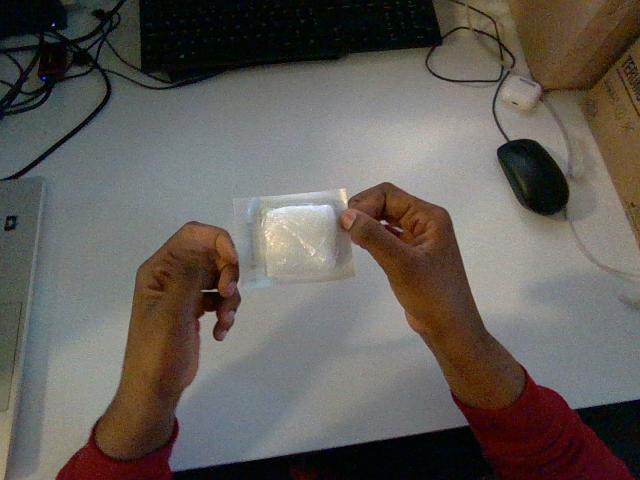gauze: (234, 189, 354, 287)
